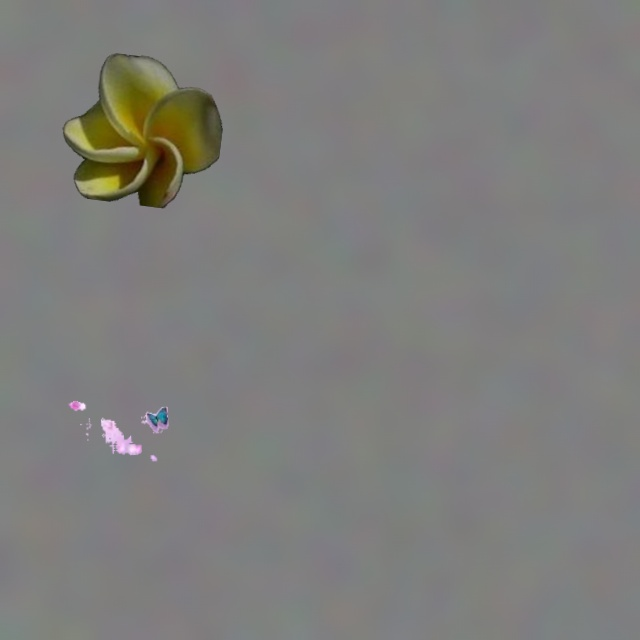frangipani: (63, 53, 222, 207)
ylang-ylang: (68, 401, 168, 460)
